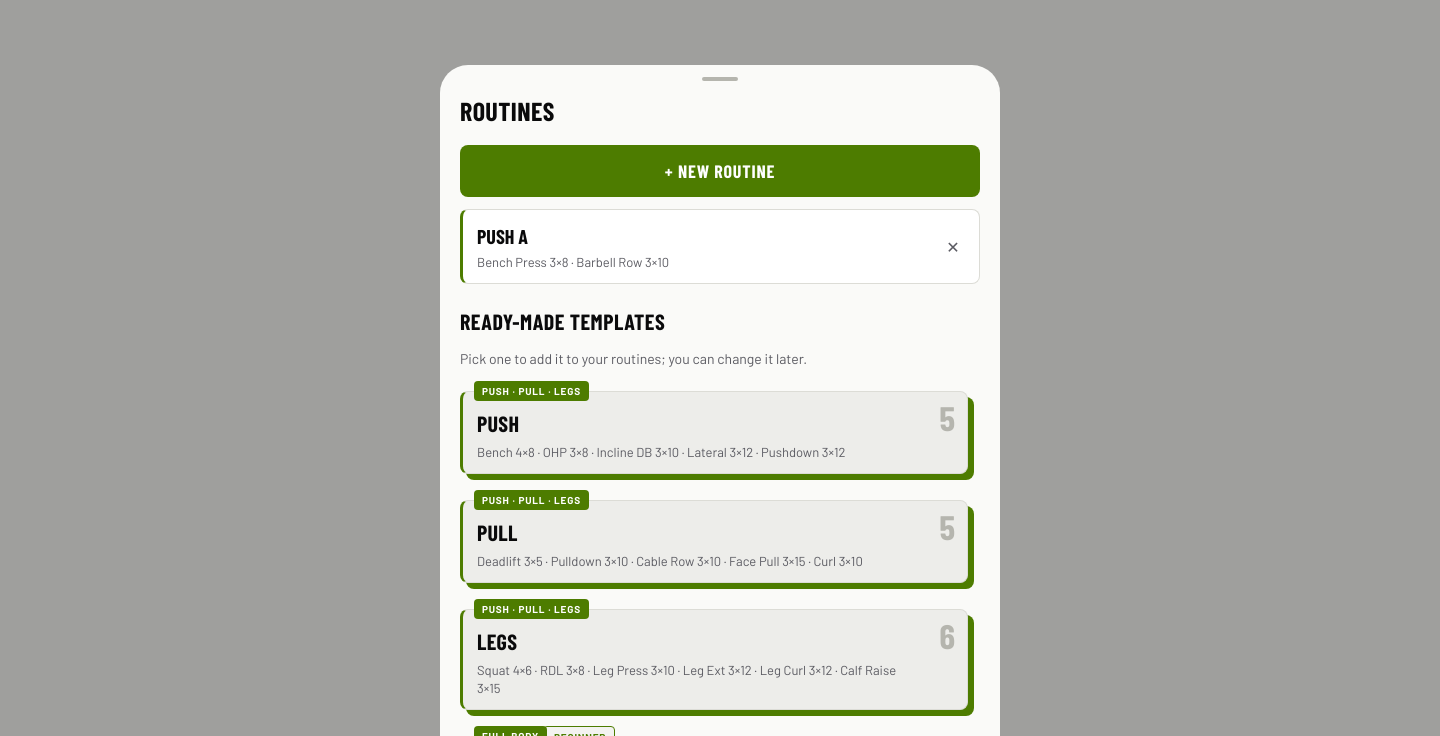
Test: RoutinesSheet › does not add an exercise that is already in the routine
What coordinates should you click on to do the following:
click the button "Push A Bench Press 3×8 · Barbell Row 3×10"
I would click on:
 (502, 236)
Its box is x1=463 y1=210 x2=931 y2=283.
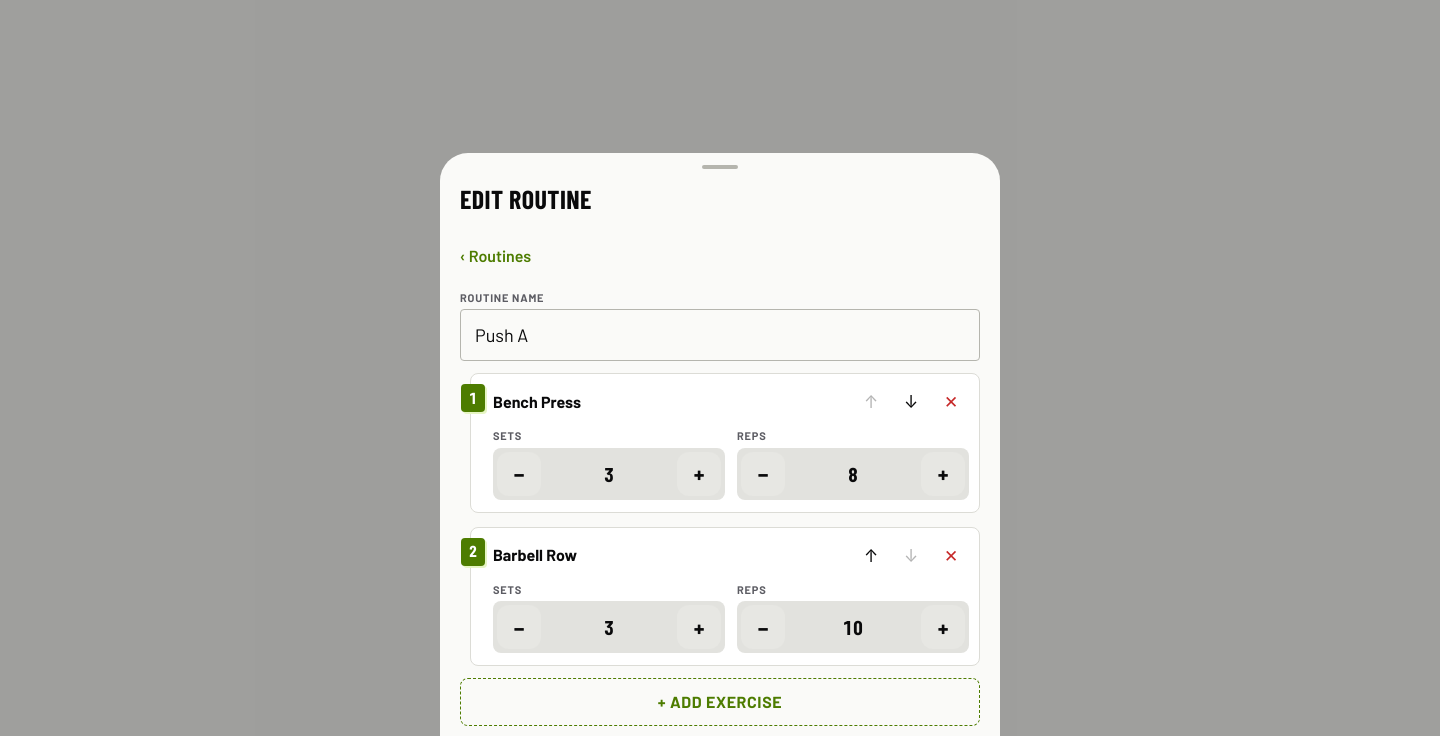
What coordinates should you click on to do the following:
click the button "+ Add exercise"
I would click on:
 (720, 702)
Its box is x1=460 y1=678 x2=980 y2=726.
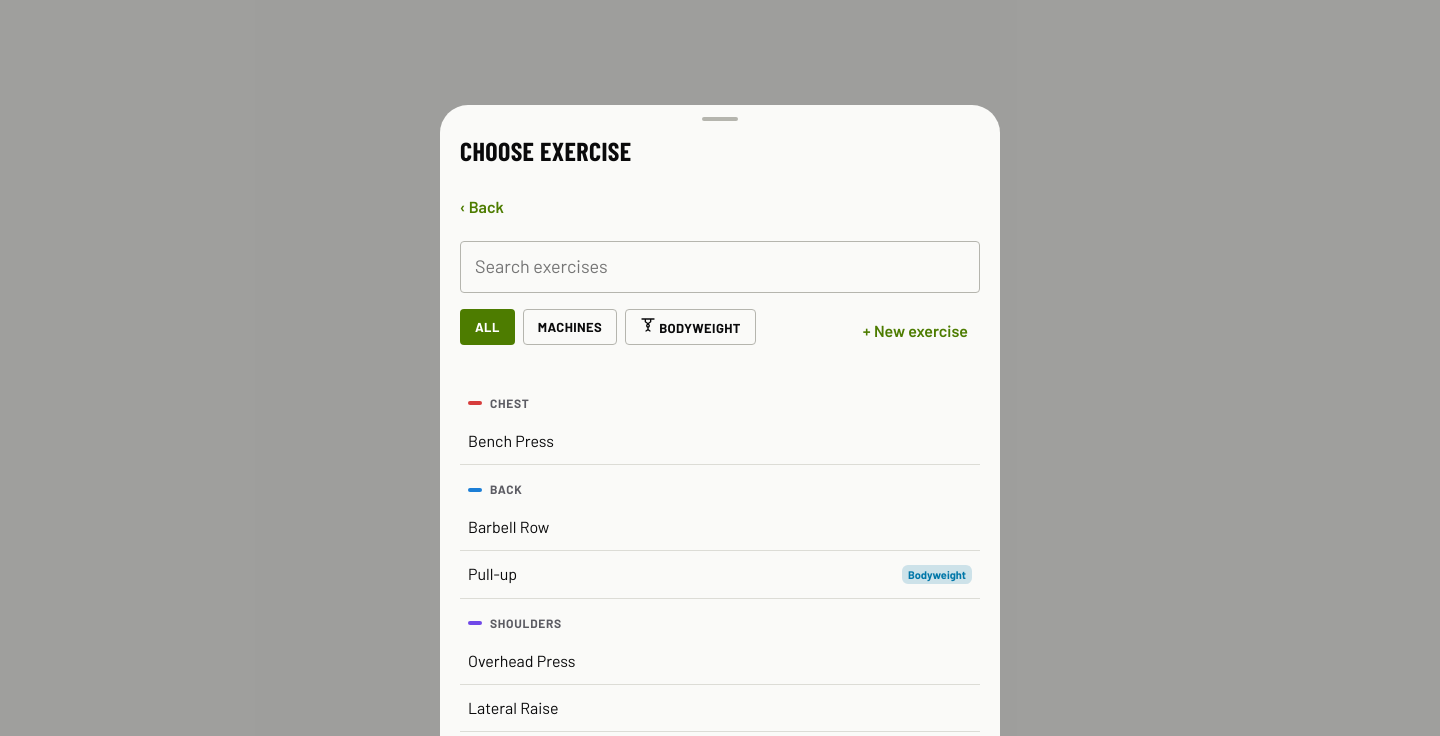
What coordinates should you click on to do the following:
click the button "Bench Press"
I would click on:
 (511, 440)
Its box is x1=460 y1=418 x2=980 y2=465.
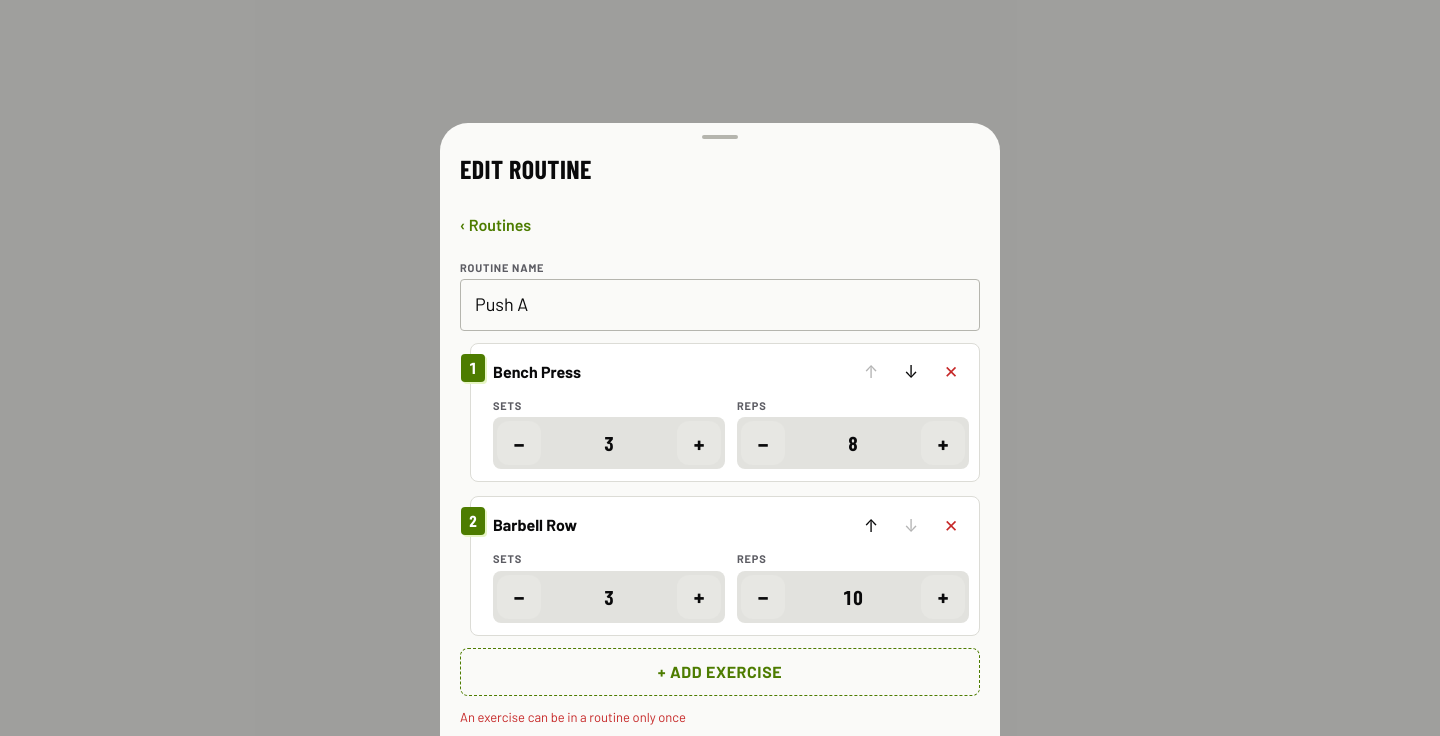
Check: the text "An exercise can be in a routine only once" is shown, box x1=460 y1=709 x2=686 y2=725
